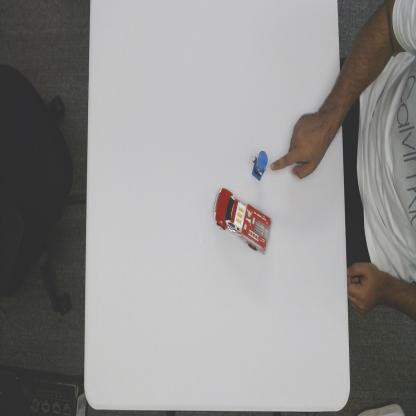Arm: (323, 71, 341, 144)
Firetruck: (212, 185, 272, 256)
Hand: (270, 111, 324, 180)
